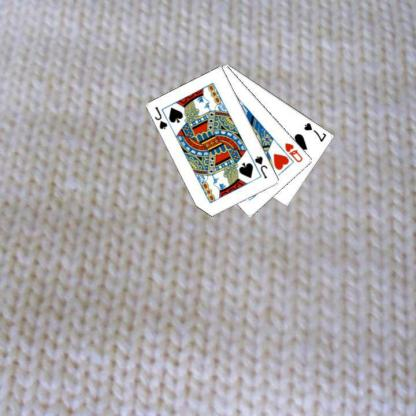7S: (302, 120, 328, 143)
JS: (252, 153, 269, 180), (152, 104, 168, 131)
QH: (282, 140, 304, 164)
